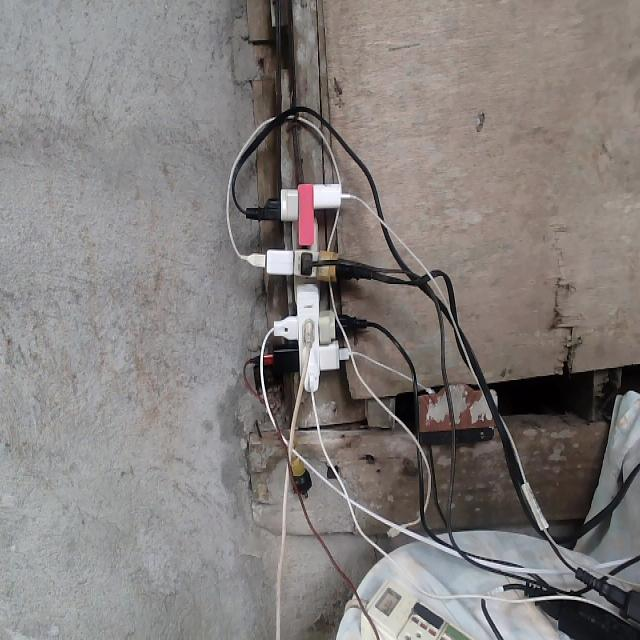-: (259, 172, 354, 393)
